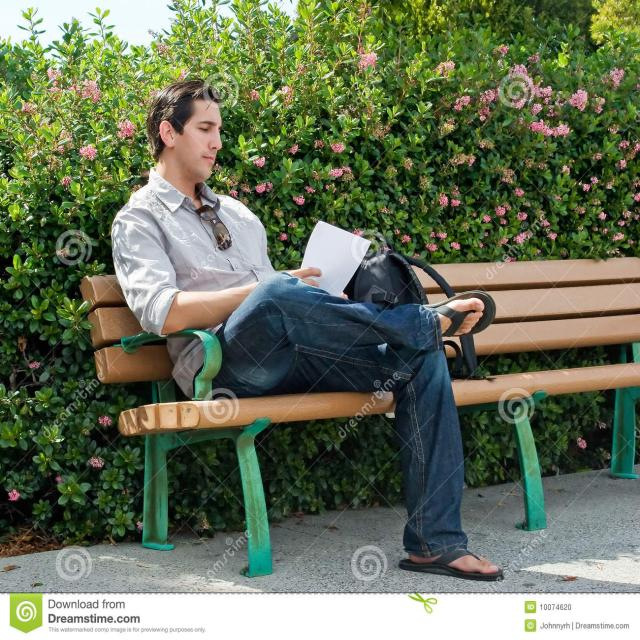sit: (129, 76, 492, 588)
